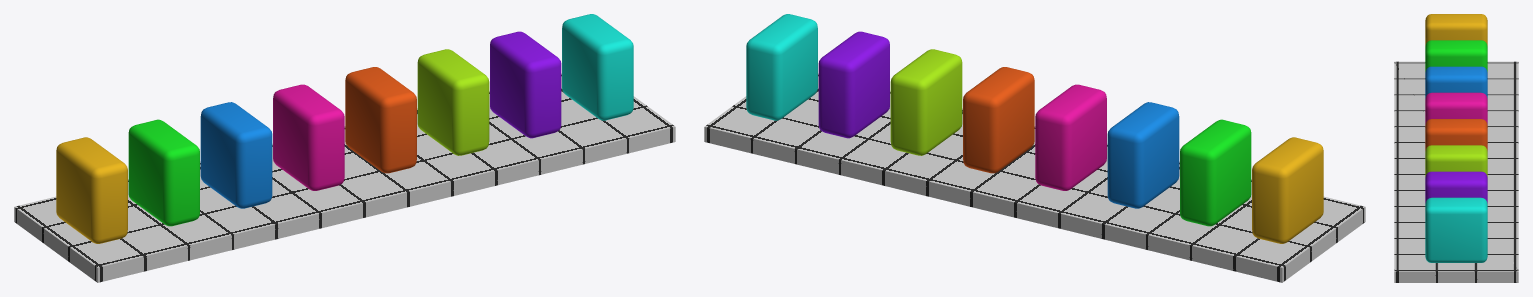
Rendered from MorphStressTest.gltf.
3 views of the same model, side by side, from view 1: azimuth 30°, elevation 25°; view 2: azimuth 150°, elevation 25°; view 3: azimuth 270°, elevation 25° (orthographic). The views are drawn at different scales.
Visible parts, largest first — view 1: Main; view 2: Main; view 3: Main.
Part boxes in pixels (<box>): Main: <box>14,14,675,282</box>; Main: <box>704,14,1365,282</box>; Main: <box>1394,14,1518,282</box>.
Size of the model in its own units: 4 by 0.6 by 1.
2 materials, 2 textured.
